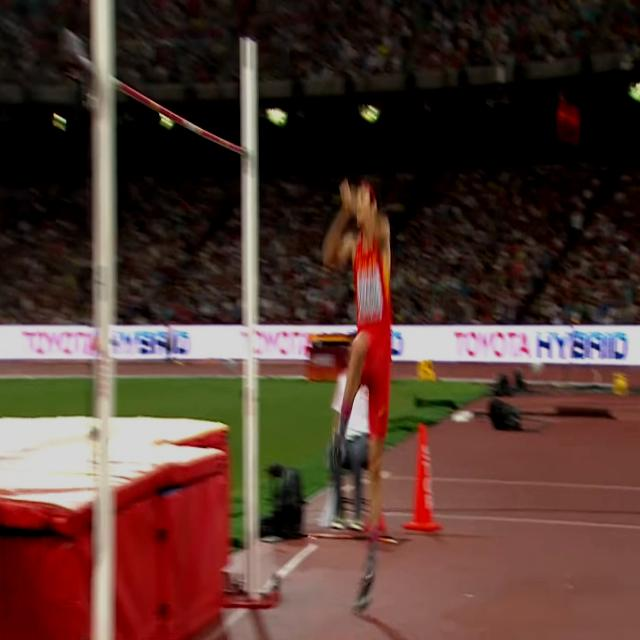jump: (322, 177, 388, 611)
